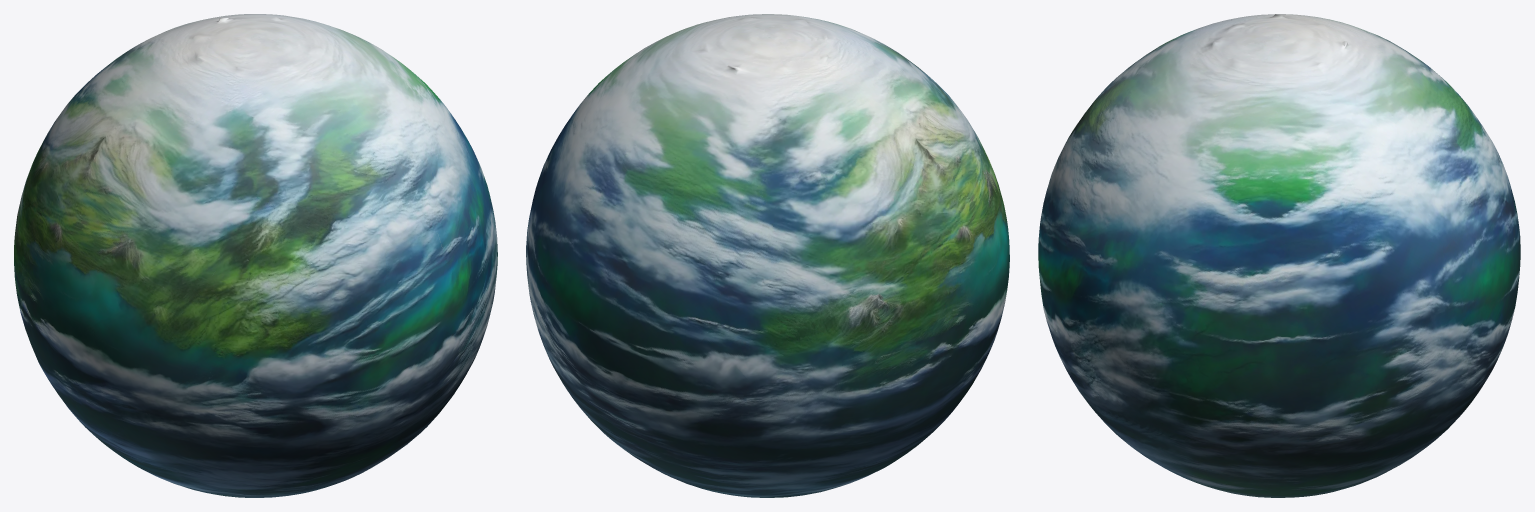
The model's file is normal_planet_4.glb.
3 views of the same model, side by side, from view 1: azimuth 30°, elevation 25°; view 2: azimuth 150°, elevation 25°; view 3: azimuth 270°, elevation 25° (orthographic).
Parts seen in each view (by area): view 1: Mesh_0.041; view 2: Mesh_0.041; view 3: Mesh_0.041.
Boxes of the visible parts, bbox=[...] form: Mesh_0.041: bbox=[14, 14, 497, 497]; Mesh_0.041: bbox=[526, 14, 1009, 497]; Mesh_0.041: bbox=[1038, 14, 1520, 497].
Size of the model in its own units: 2 by 2 by 2.
1 material, 1 textured.
